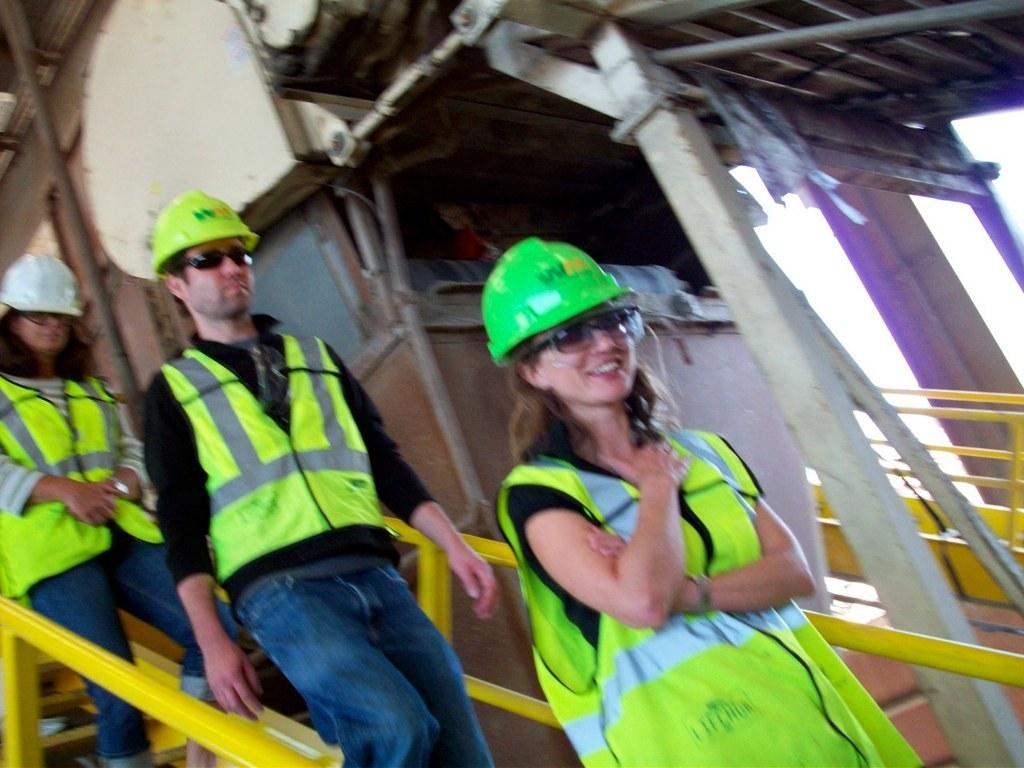helmet: (480, 236, 634, 401), (152, 190, 260, 315), (0, 253, 84, 352)
